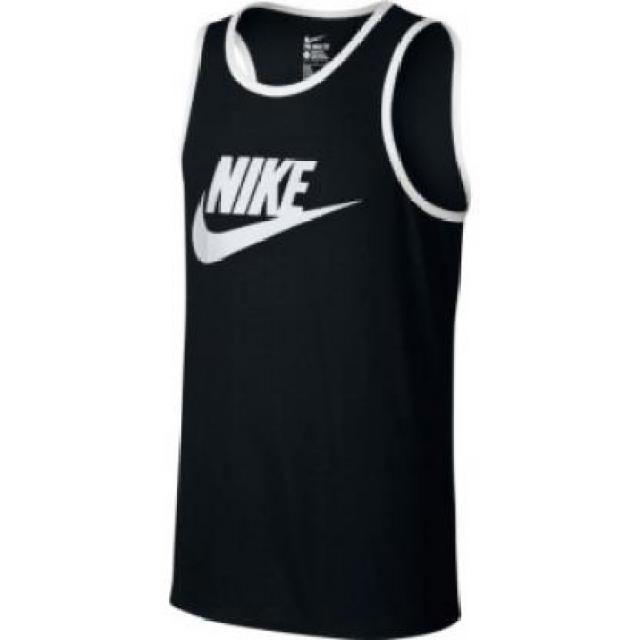Nike: (188, 148, 361, 270)
